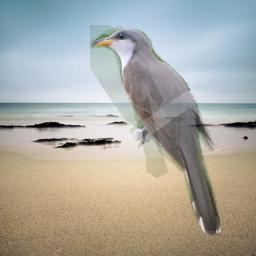Cuckoo: (90, 25, 226, 240)
